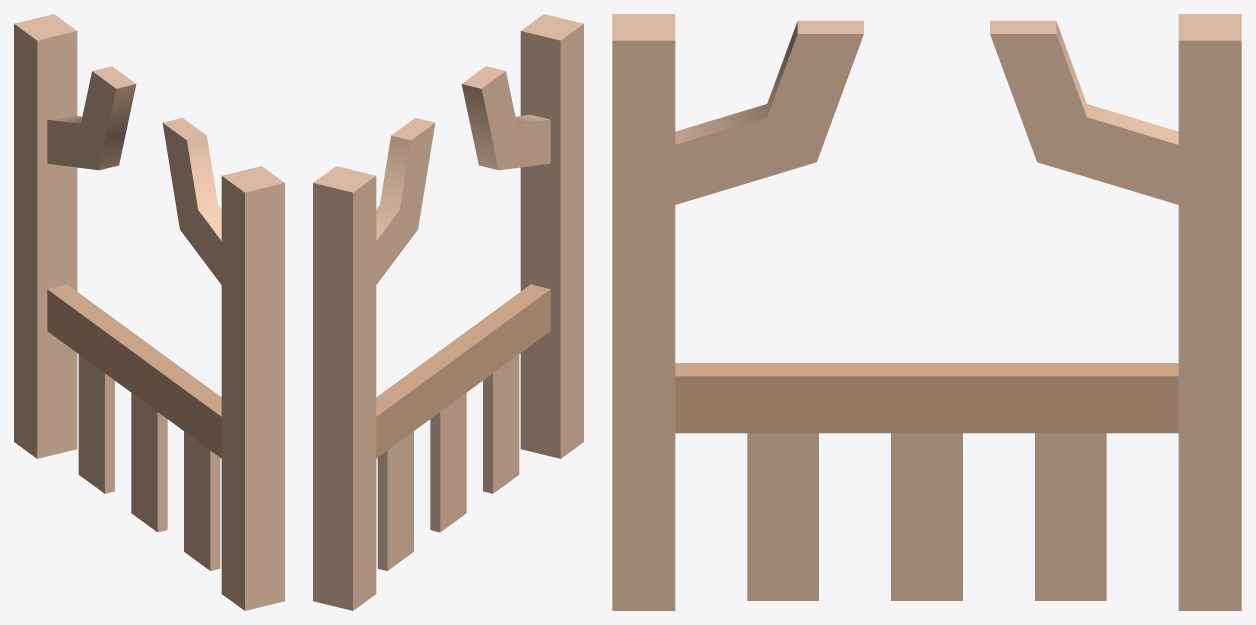
The picture shows the model from 3 angles, left to right: view 1: azimuth 30°, elevation 25°; view 2: azimuth 150°, elevation 25°; view 3: azimuth 270°, elevation 25°; orthographic projection. The views are drawn at different scales.
Visible parts, largest first — view 1: balconyWallFence; view 2: balconyWallFence; view 3: balconyWallFence.
Boxes of the visible parts, x1=… form: balconyWallFence: x1=14, y1=14, x2=284, y2=610; balconyWallFence: x1=313, y1=14, x2=583, y2=610; balconyWallFence: x1=612, y1=14, x2=1241, y2=610.
Size of the model in its own units: 0.1 by 1 by 1.
